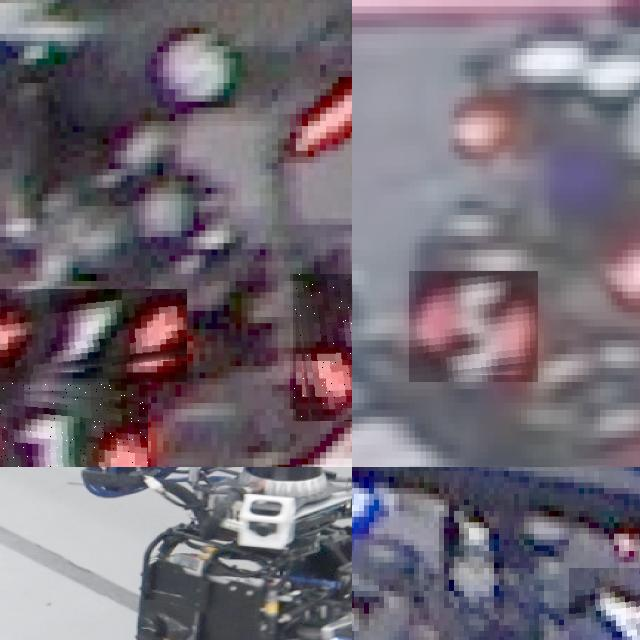B4: (569, 568, 640, 640)
R1: (0, 289, 187, 381), (0, 381, 148, 467), (293, 273, 352, 421)
R5: (409, 271, 538, 382)
